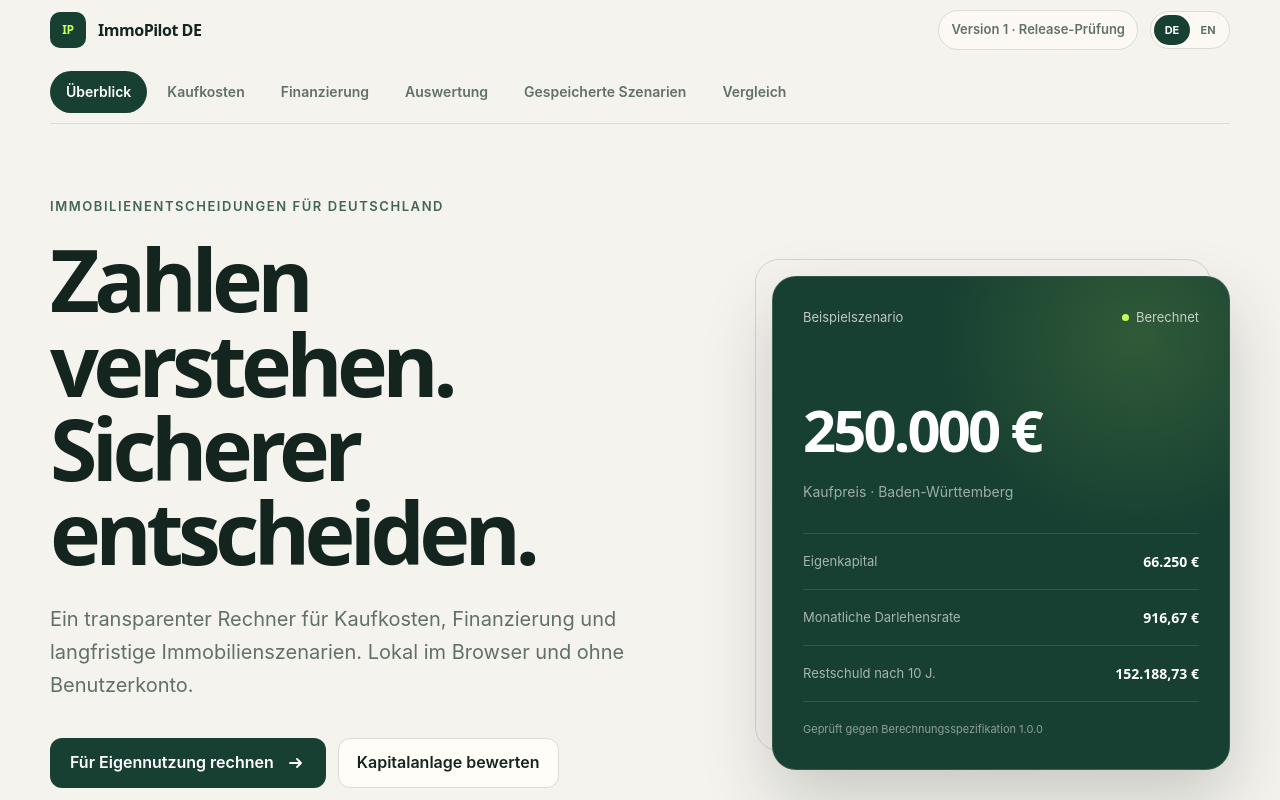
Scenario: App › opens the saved-scenarios workspace from the primary navigation
Click the link "Gespeicherte Szenarien" at {"x": 605, "y": 92}, box [524, 83, 686, 100]
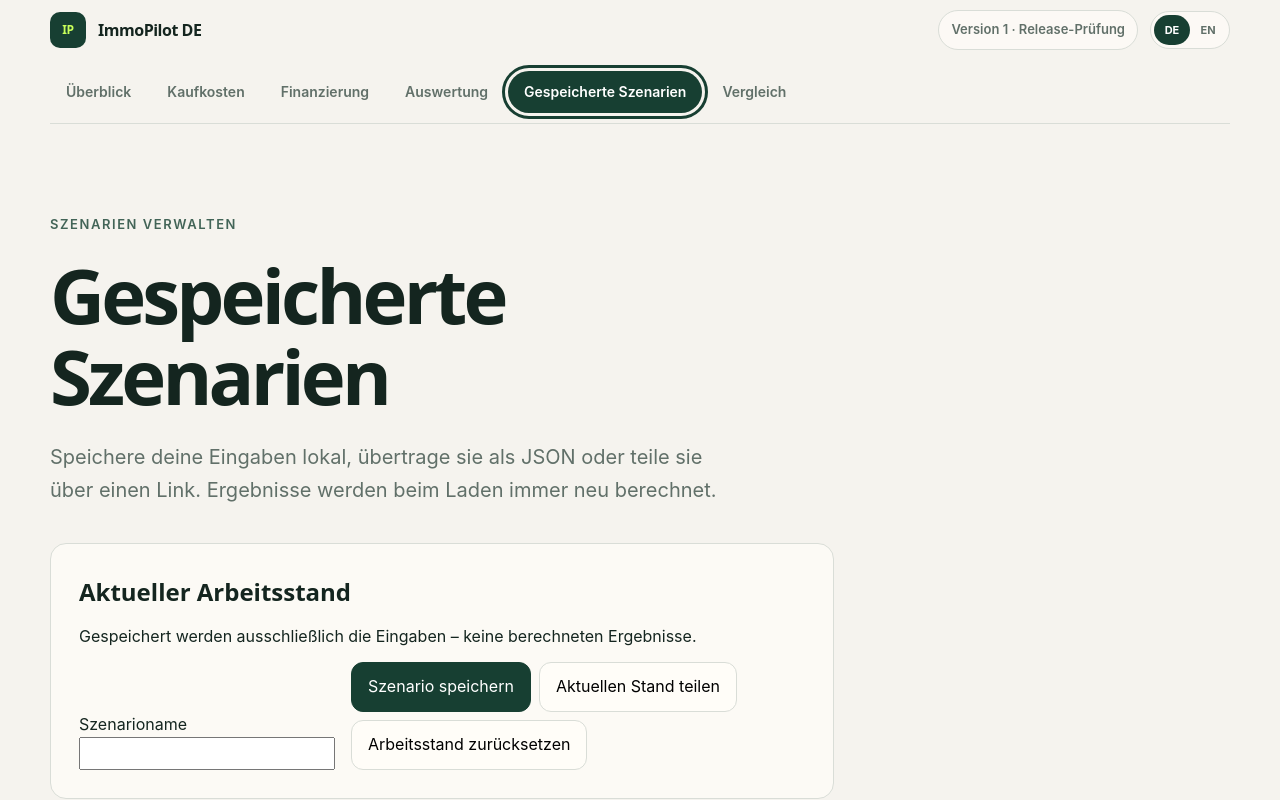
Expected: the heading "Gespeicherte Szenarien" is shown, [50, 243, 505, 427]
